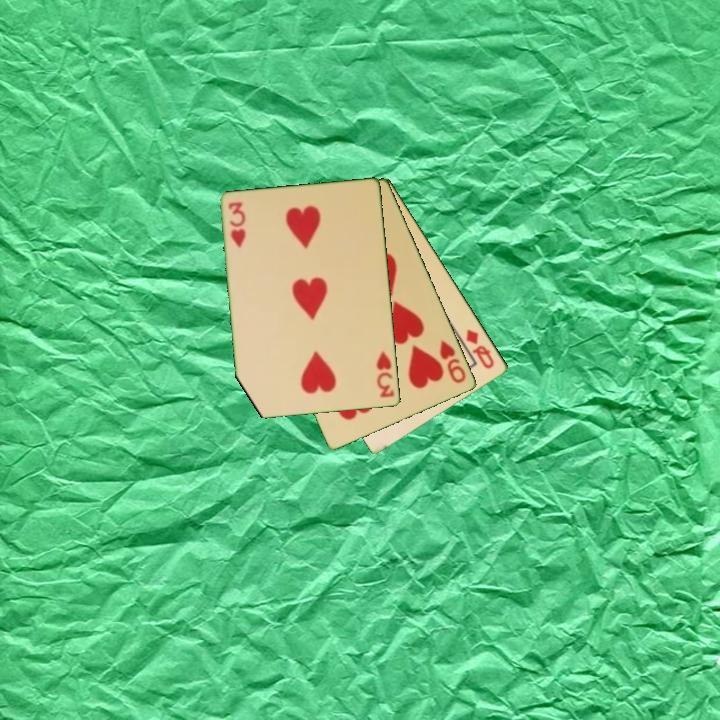3h: (373, 348, 397, 400), (225, 199, 249, 251)
9h: (436, 337, 469, 386)
Qd: (463, 326, 497, 372)
